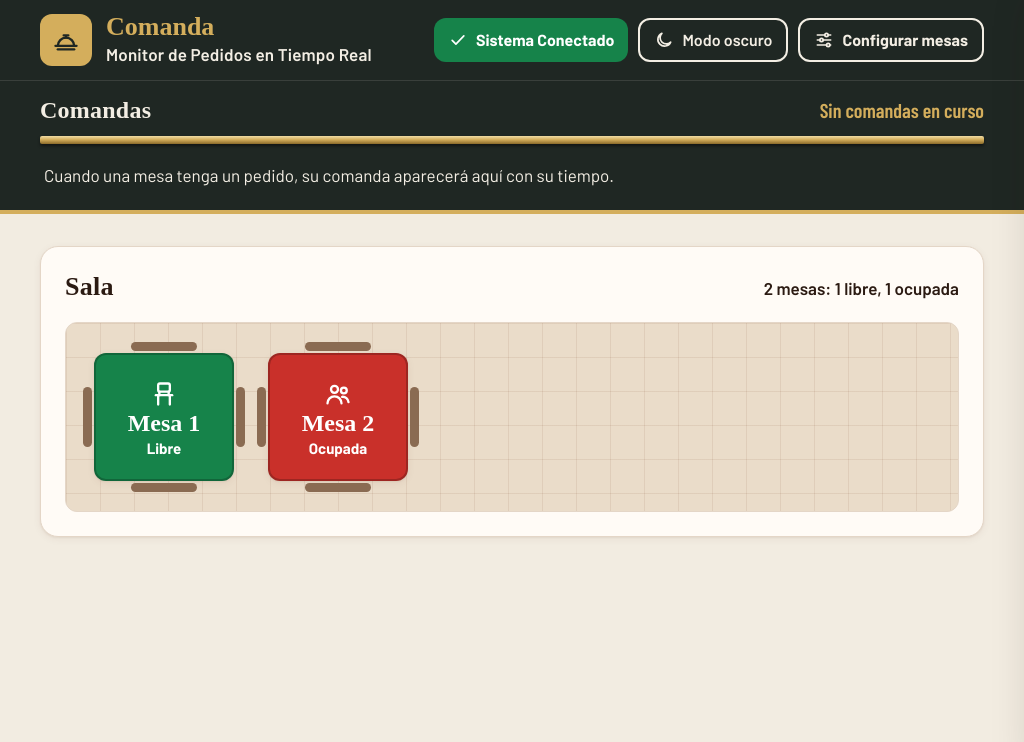
Test: App: avanzar el pedido desde el panel de la mesa › al abrir el panel de otra mesa no aparece el aviso de la anterior
The width and height of the screenshot is (1024, 742).
Check: the text "Mesa 1" is shown, box x1=128 y1=410 x2=200 y2=437
Click the button titled "Mesa 2 —" at (338, 417), box x1=268 y1=353 x2=408 y2=481
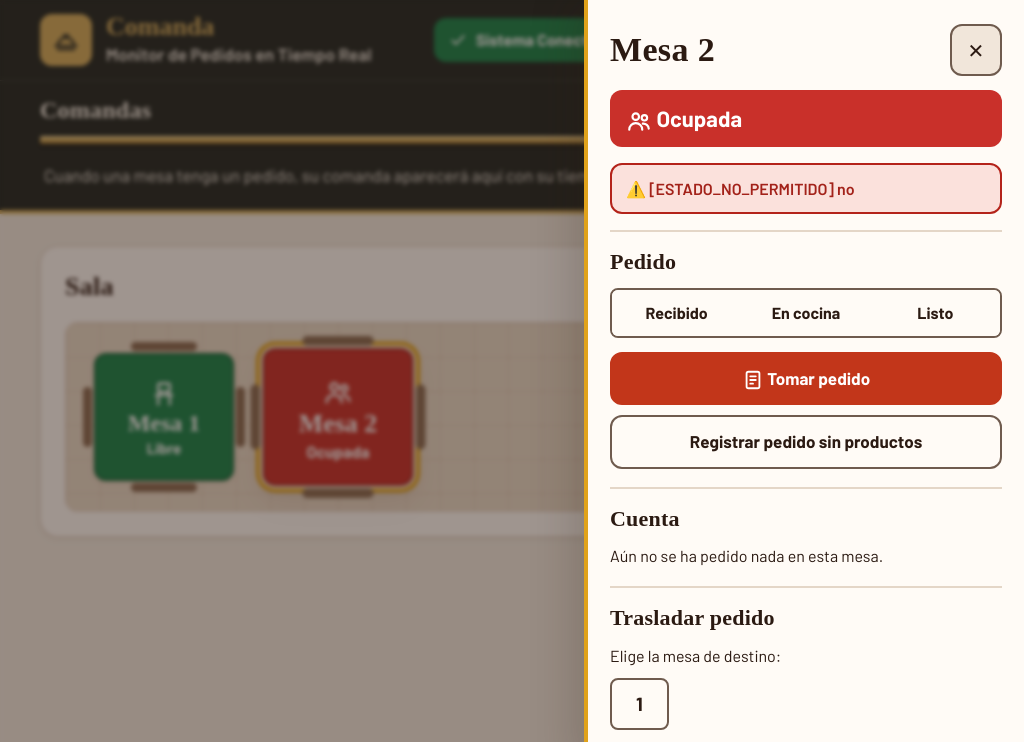
Click the button named "Cerrar panel" at (976, 50), box x1=950 y1=24 x2=1002 y2=76
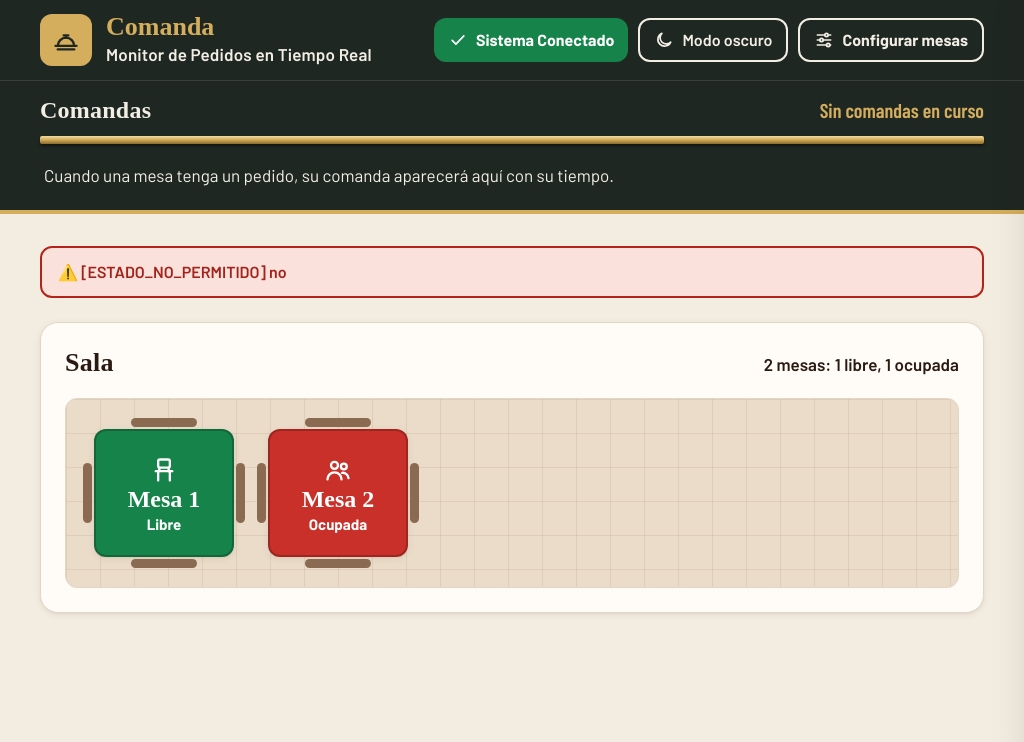
Click the button titled "Mesa 1 —" at (164, 493), box x1=94 y1=429 x2=234 y2=557
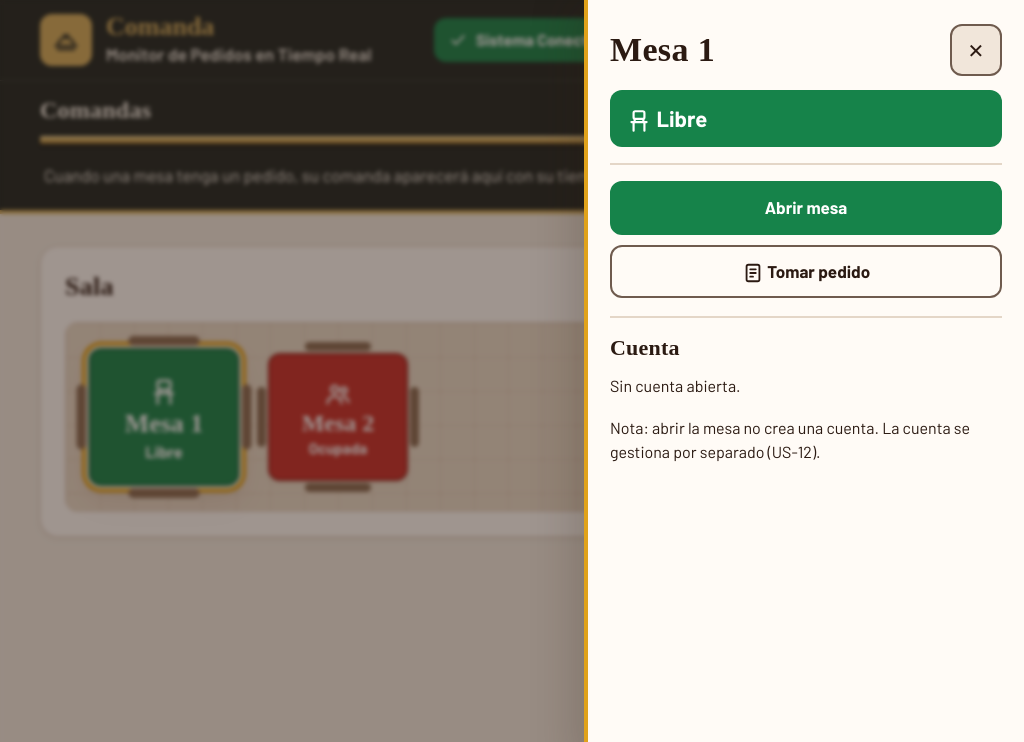
Check: the message "⚠️ [ESTADO_NO_PERMITIDO] no" is gone
